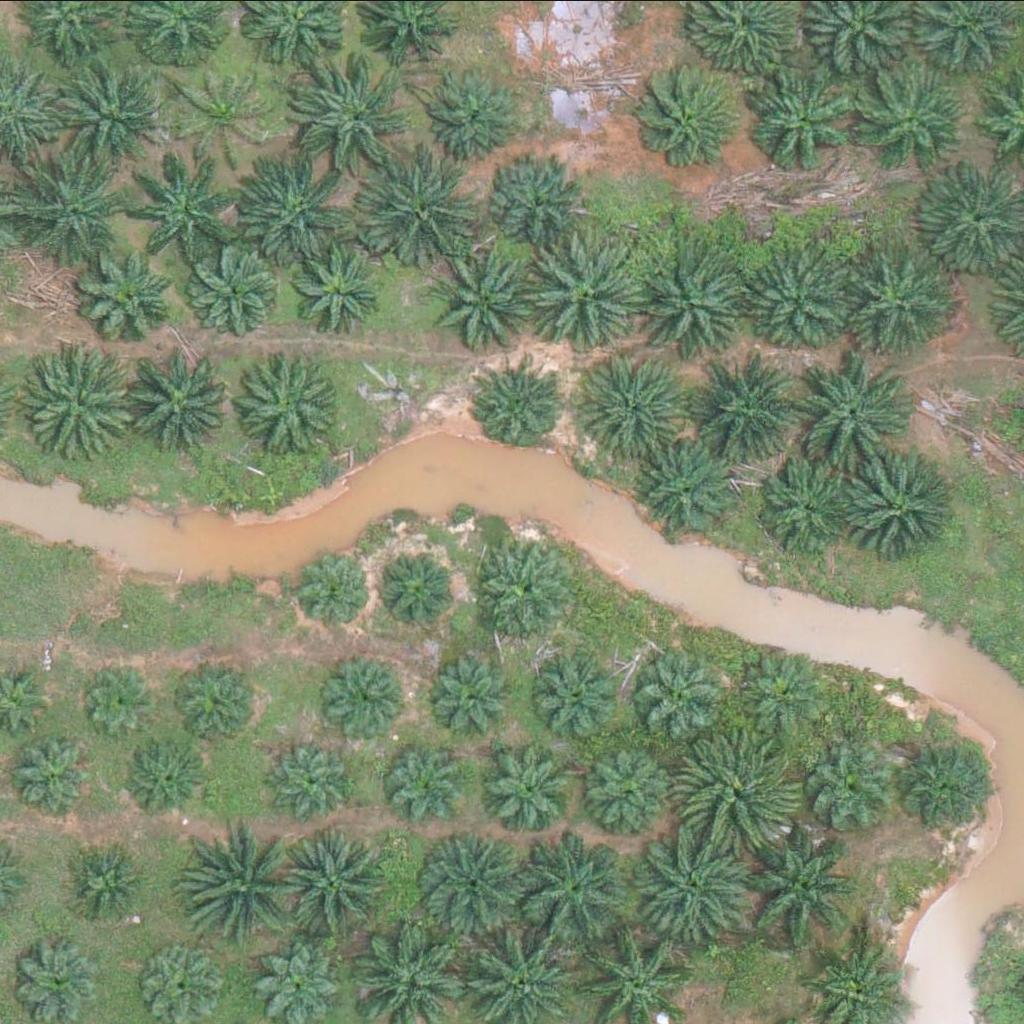Kelapa_Sawit: (736, 239, 850, 352), (364, 151, 478, 264), (641, 248, 755, 361), (577, 350, 691, 463), (414, 833, 528, 946), (751, 62, 864, 175), (848, 451, 961, 564), (238, 150, 351, 263), (19, 348, 132, 461), (678, 734, 791, 847), (191, 826, 304, 939), (512, 829, 625, 942), (856, 60, 970, 172), (63, 55, 177, 167), (628, 62, 742, 174), (685, 352, 799, 464), (128, 342, 242, 454), (639, 823, 753, 935), (839, 248, 952, 360), (796, 360, 909, 472), (741, 834, 854, 946), (294, 59, 407, 171), (125, 154, 238, 266), (10, 150, 123, 262), (418, 238, 531, 350), (532, 234, 645, 346), (284, 829, 397, 941), (758, 457, 859, 557), (167, 61, 268, 161), (485, 154, 586, 254), (185, 244, 286, 344), (281, 240, 382, 340), (237, 351, 338, 451), (470, 538, 571, 638), (531, 646, 632, 746), (638, 438, 739, 538), (893, 736, 993, 836), (431, 65, 531, 165), (78, 247, 178, 347), (577, 736, 677, 836), (481, 732, 581, 832), (7, 731, 96, 819), (800, 744, 888, 832), (67, 845, 155, 933), (174, 661, 262, 749), (735, 647, 823, 735), (384, 738, 472, 826), (471, 363, 559, 450), (122, 733, 210, 820), (270, 740, 358, 827), (327, 651, 415, 738), (373, 544, 461, 631), (643, 650, 731, 737), (422, 655, 510, 742), (87, 662, 163, 737), (300, 553, 376, 628)
